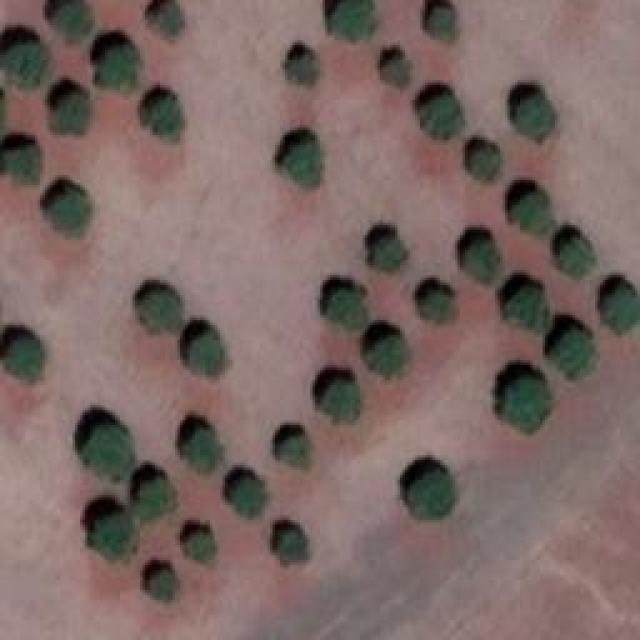Tree: (407, 470, 455, 520), (88, 428, 133, 481), (503, 378, 546, 433), (0, 43, 50, 86), (505, 288, 550, 333), (550, 333, 593, 378), (508, 193, 551, 236), (138, 293, 183, 333), (48, 190, 88, 233), (3, 338, 43, 381), (93, 518, 133, 561), (423, 95, 463, 138), (330, 0, 373, 38), (98, 45, 138, 85), (183, 428, 218, 473), (518, 95, 553, 140), (285, 143, 320, 188), (52, 3, 90, 43), (50, 93, 88, 133), (327, 290, 365, 328), (190, 333, 223, 376), (148, 98, 183, 138), (605, 290, 640, 330), (560, 238, 595, 278), (465, 243, 500, 283), (138, 480, 171, 520), (0, 148, 38, 181), (230, 475, 263, 513), (323, 383, 358, 418), (368, 340, 403, 373), (278, 438, 311, 468), (375, 238, 405, 271), (280, 530, 308, 563), (425, 293, 455, 323), (430, 8, 455, 43), (150, 570, 178, 600), (470, 148, 498, 178), (287, 53, 315, 83), (152, 0, 177, 32), (185, 535, 213, 560), (385, 55, 408, 85)
